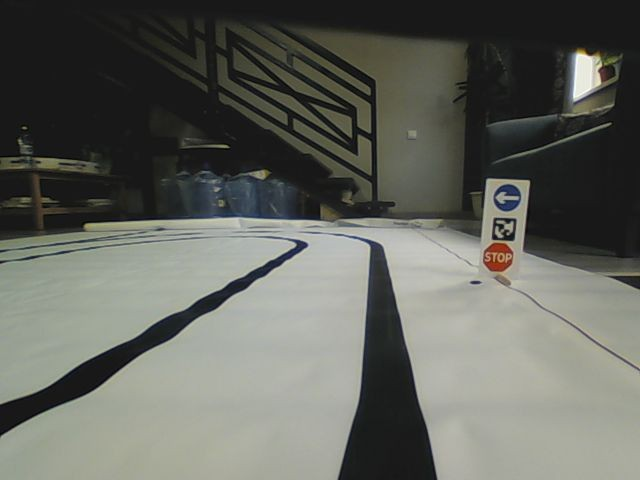Stop: (483, 241, 514, 273)
